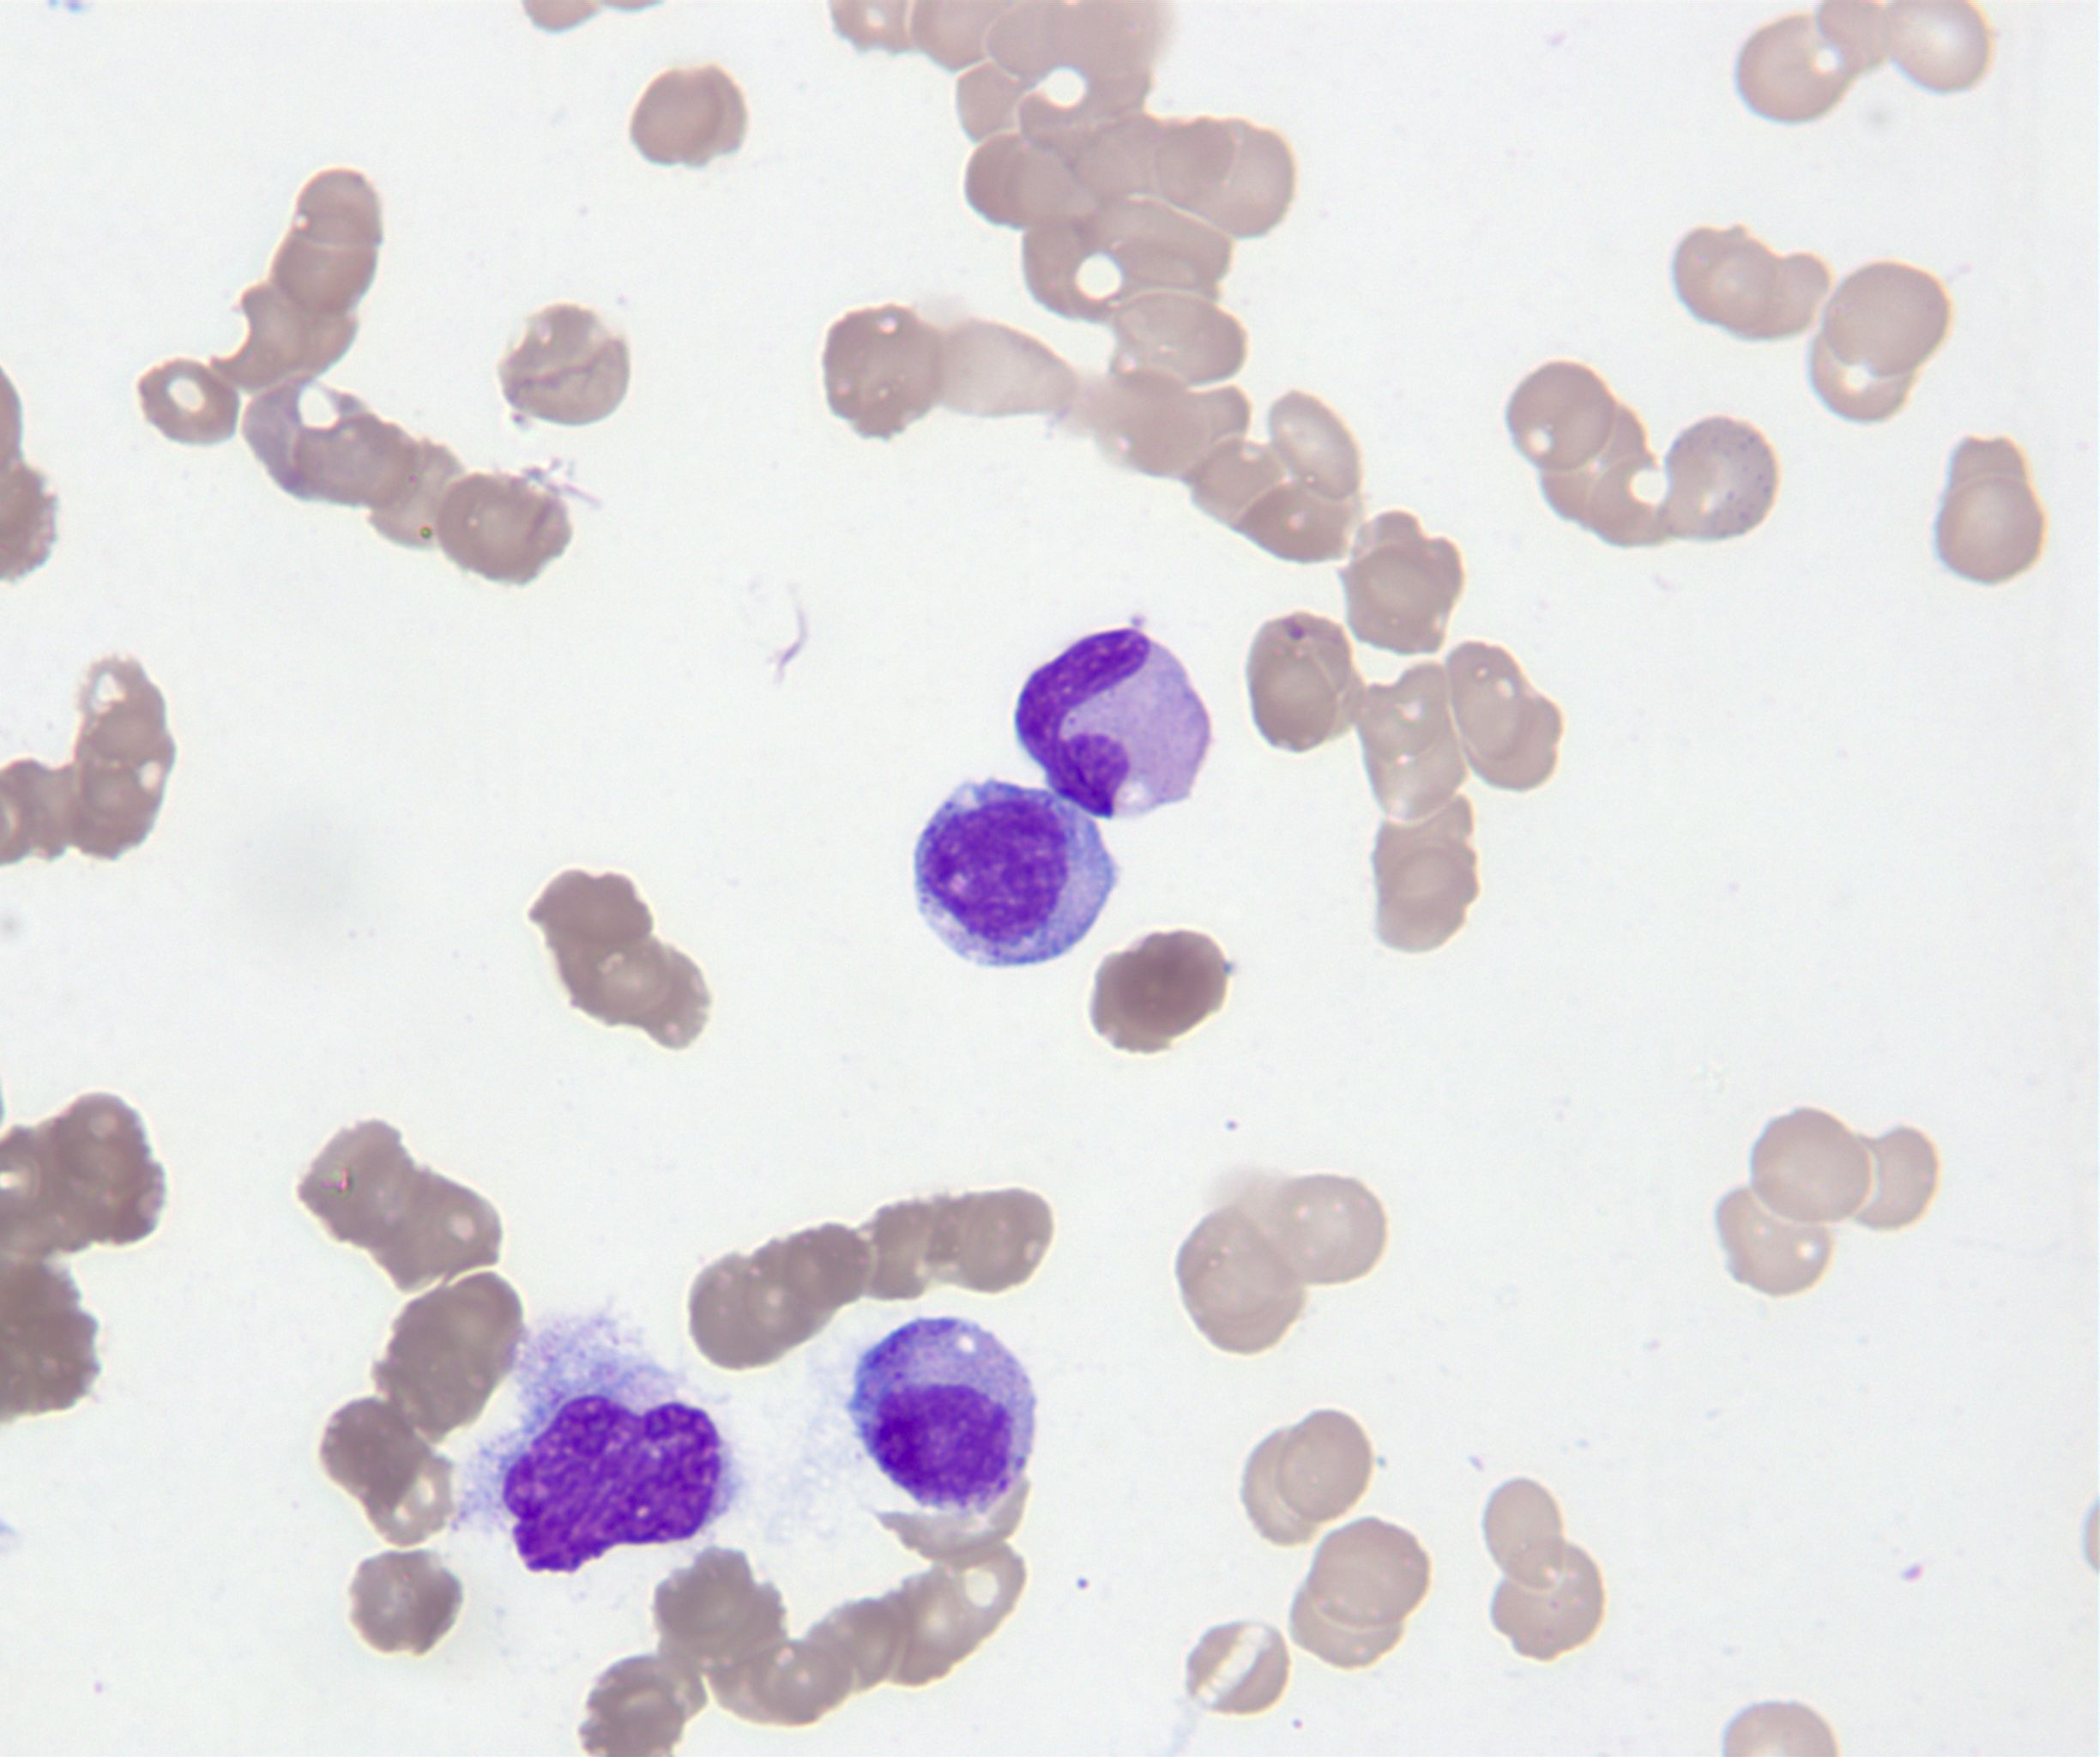3: (914, 778, 1115, 965), (848, 1319, 1034, 1507)
5: (1017, 628, 1207, 818)
x: (448, 1314, 740, 1572)
